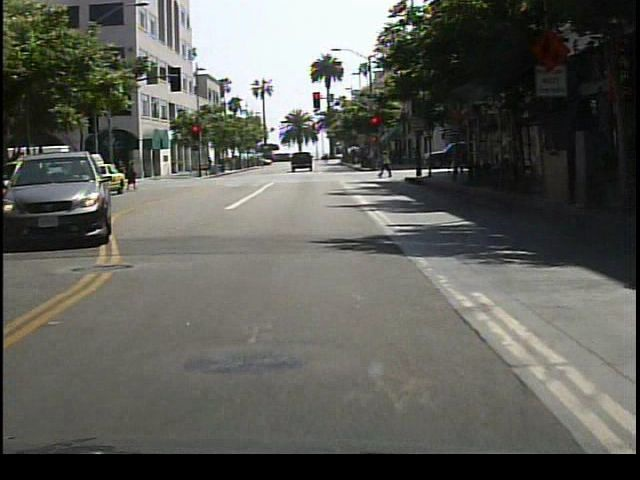person: (378, 150, 394, 179), (127, 158, 140, 193), (409, 145, 424, 175)
